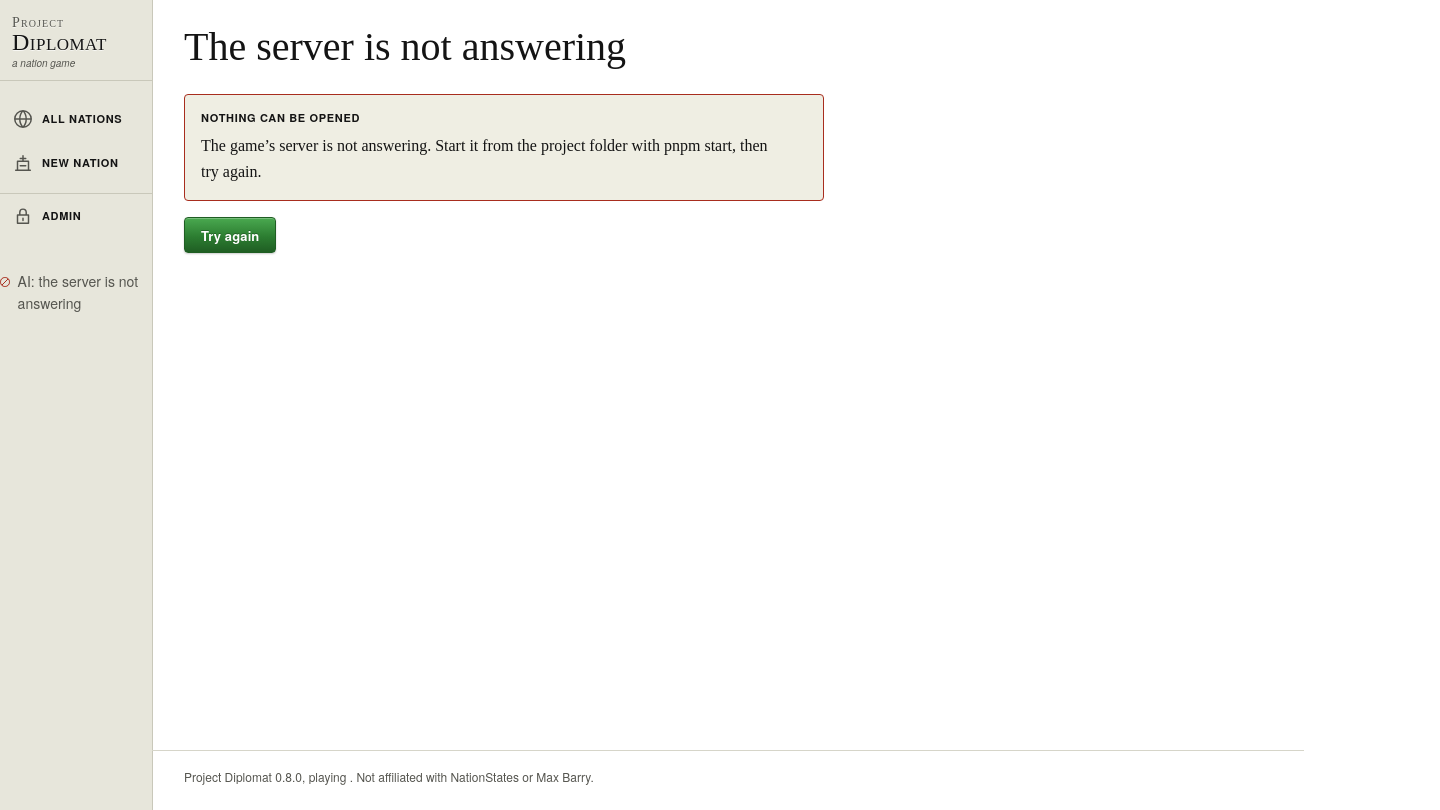
it: a first visit › says so when the server is not answering, and tries again when asked
The width and height of the screenshot is (1440, 810).
Expected: the heading "The server is not answering" is shown, [184, 24, 626, 69]
Expected: the message shows "pnpm start", [201, 137, 768, 180]
Step 1. Click the button "Try again" → click(230, 236), box [184, 218, 276, 254]
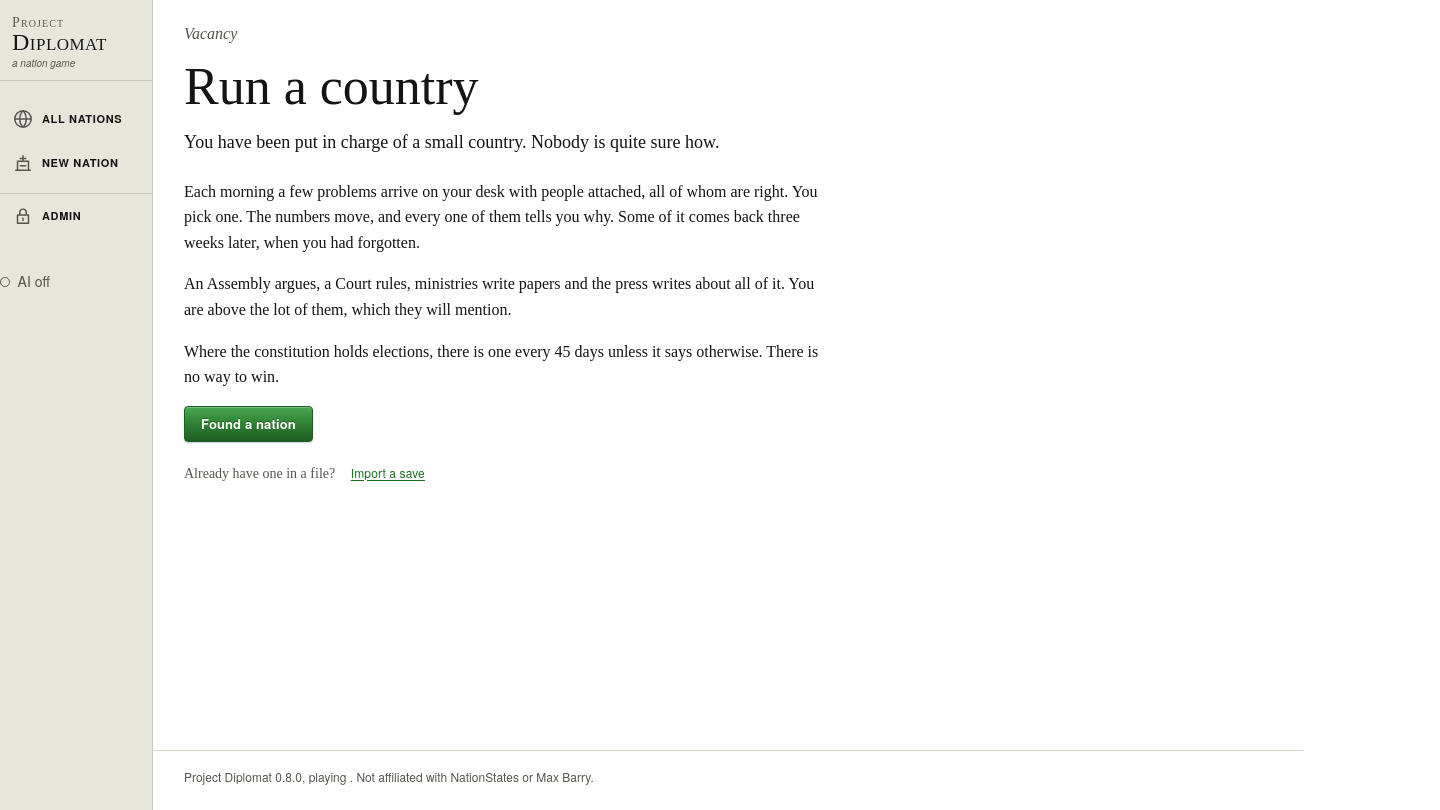
Result: the heading "Run a country" is shown at [184, 58, 479, 115]
